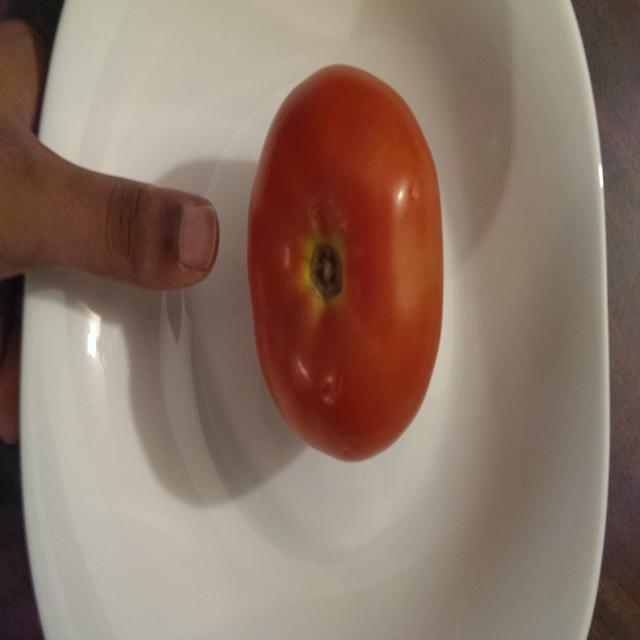tomato: (246, 62, 444, 462)
